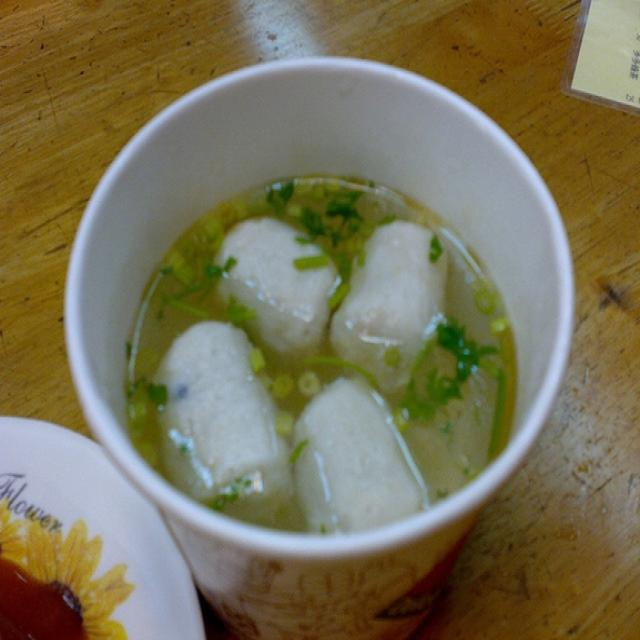熟制海鲜: (65, 58, 586, 581)
